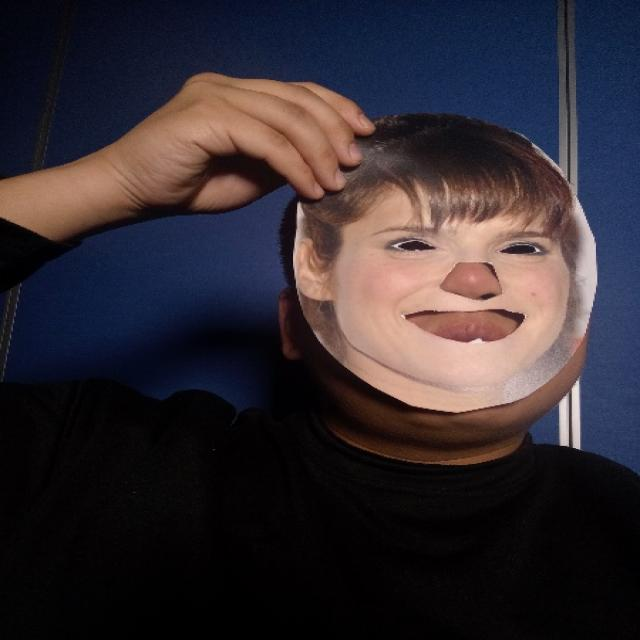mask: (294, 114, 603, 411)
